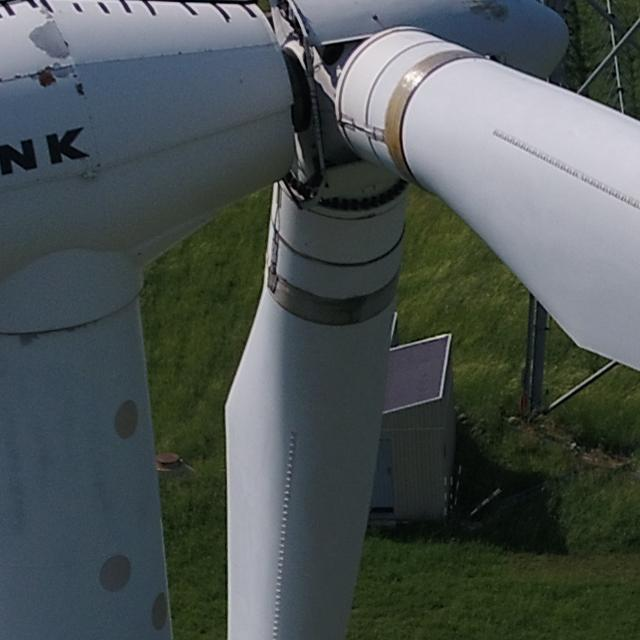damage: (261, 427, 300, 635), (489, 126, 571, 170), (561, 166, 636, 214), (26, 19, 72, 62), (470, 2, 513, 26), (35, 66, 56, 90), (14, 335, 41, 352)
